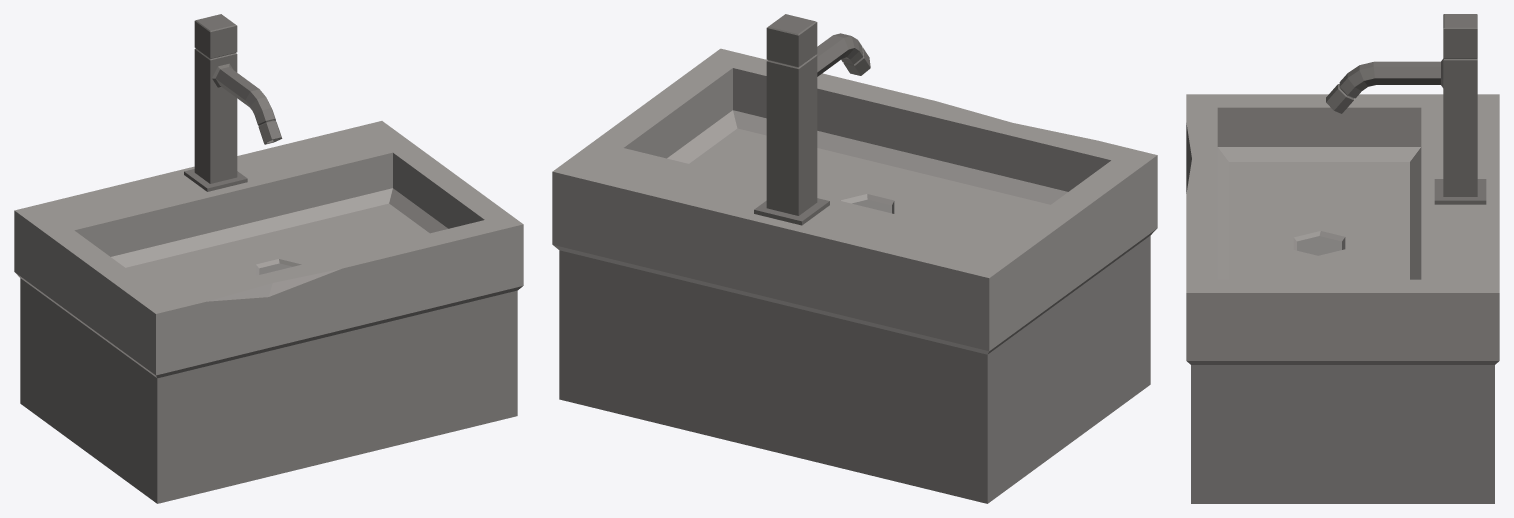
File: SM_Props_Interior_House_Bathroom_Sink_01.fbx
3 renders of one model, left to right at view 1: azimuth 30°, elevation 25°; view 2: azimuth 150°, elevation 25°; view 3: azimuth 270°, elevation 25°, orthographic. The views are drawn at different scales.
Visible parts, largest first — view 1: SM_Props_Interior_House_Bathroom_Sink_01; view 2: SM_Props_Interior_House_Bathroom_Sink_01; view 3: SM_Props_Interior_House_Bathroom_Sink_01.
Boxes of the visible parts, x1,y1,x2,y2 form: SM_Props_Interior_House_Bathroom_Sink_01: [14, 14, 523, 503]; SM_Props_Interior_House_Bathroom_Sink_01: [552, 14, 1157, 503]; SM_Props_Interior_House_Bathroom_Sink_01: [1186, 14, 1499, 503].
Size of the model in its own units: 60 by 54.34 by 40.
